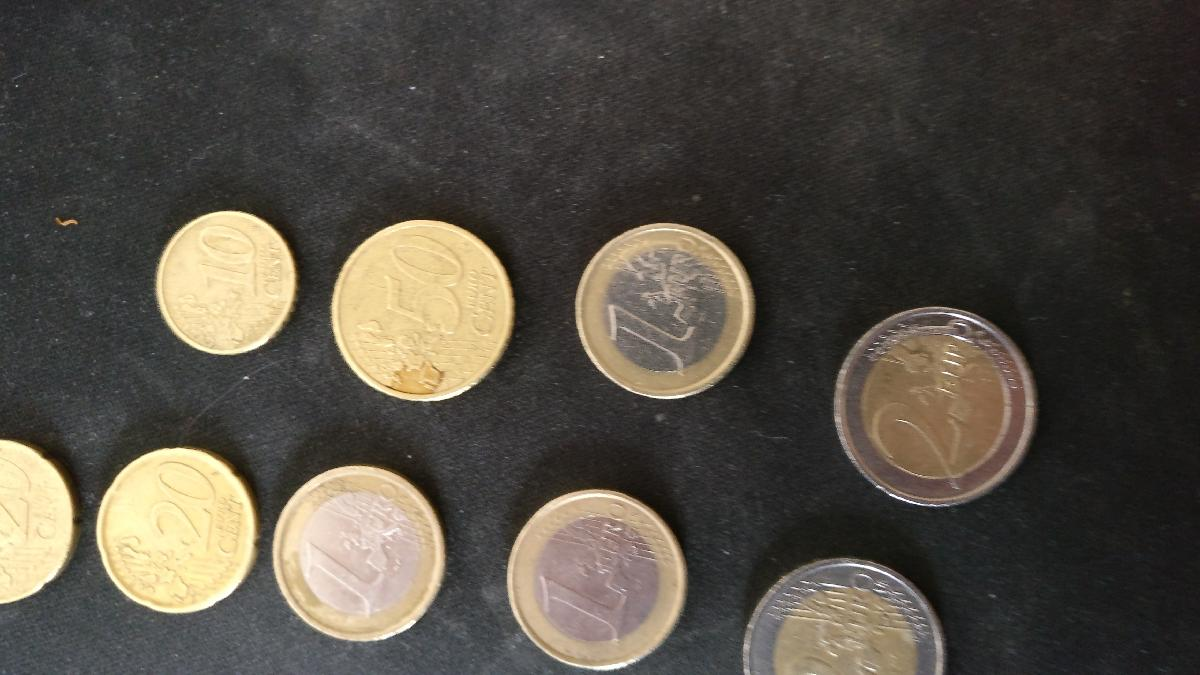Fifty Cent: (333, 226, 519, 404)
One Euro: (505, 484, 691, 671), (574, 222, 757, 398), (275, 473, 448, 644)
Ten Cent: (157, 214, 299, 357)
Twenty Cent: (100, 447, 261, 612), (1, 438, 79, 610)
Two Euro: (836, 312, 1052, 502), (742, 556, 946, 675)
